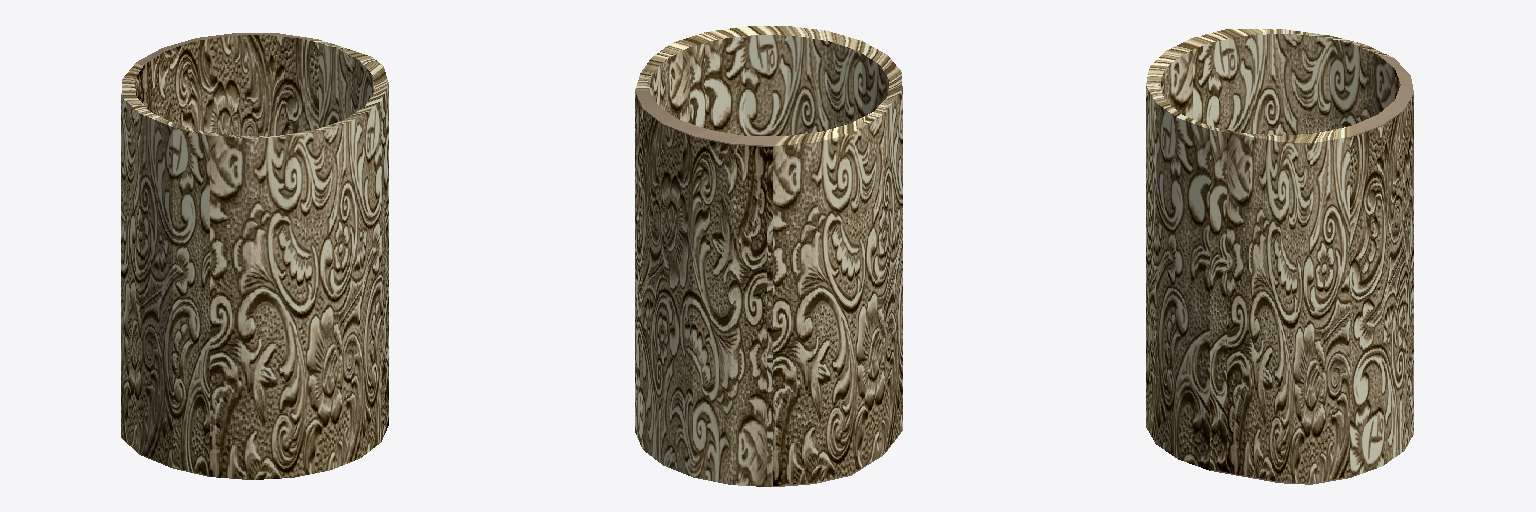
The picture shows the model from 3 angles: view 1: azimuth 30°, elevation 25°; view 2: azimuth 150°, elevation 25°; view 3: azimuth 270°, elevation 25°; orthographic projection.
Parts seen in each view (by area): view 1: pCylinder1; view 2: pCylinder1; view 3: pCylinder1.
Boxes of the visible parts, x1=… form: pCylinder1: x1=121, y1=33, x2=388, y2=479; pCylinder1: x1=635, y1=26, x2=902, y2=486; pCylinder1: x1=1146, y1=29, x2=1413, y2=484.
Bounding box in the file's own units: 0.1927 × 0.2764 × 0.1927.
Materials: 1 (1 with a texture image).